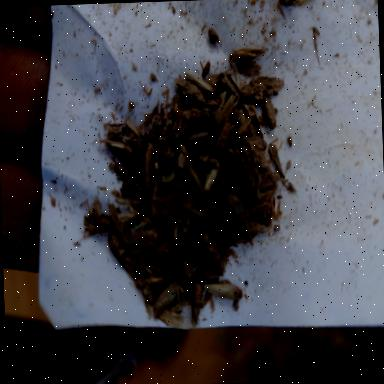pbw: (157, 166, 190, 224), (106, 230, 142, 282), (111, 190, 150, 224), (152, 276, 187, 312), (212, 106, 236, 154), (186, 164, 212, 208), (188, 276, 208, 330), (121, 228, 159, 256), (198, 224, 222, 268), (178, 192, 212, 222), (210, 90, 240, 124), (213, 212, 244, 244), (224, 187, 252, 222), (100, 136, 140, 160), (174, 78, 206, 107), (185, 71, 219, 97), (166, 207, 189, 244), (202, 282, 244, 302), (142, 140, 158, 192), (142, 240, 174, 266), (196, 103, 220, 136), (216, 70, 242, 100), (158, 307, 190, 331), (179, 259, 204, 287), (268, 143, 286, 179), (228, 48, 266, 65), (148, 178, 164, 218), (201, 162, 220, 194), (120, 169, 145, 193), (146, 270, 176, 287), (262, 96, 277, 129), (240, 82, 264, 102), (186, 130, 212, 147), (258, 172, 280, 192), (240, 220, 270, 234), (233, 116, 253, 136)
